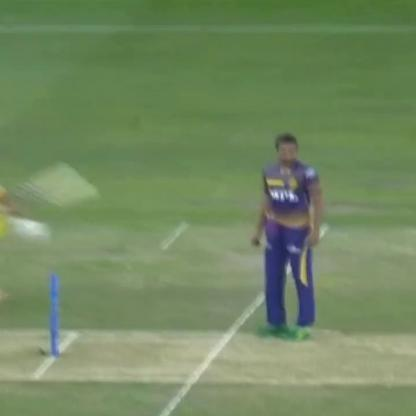bat: (13, 166, 98, 214)
pitch: (1, 316, 413, 394)
